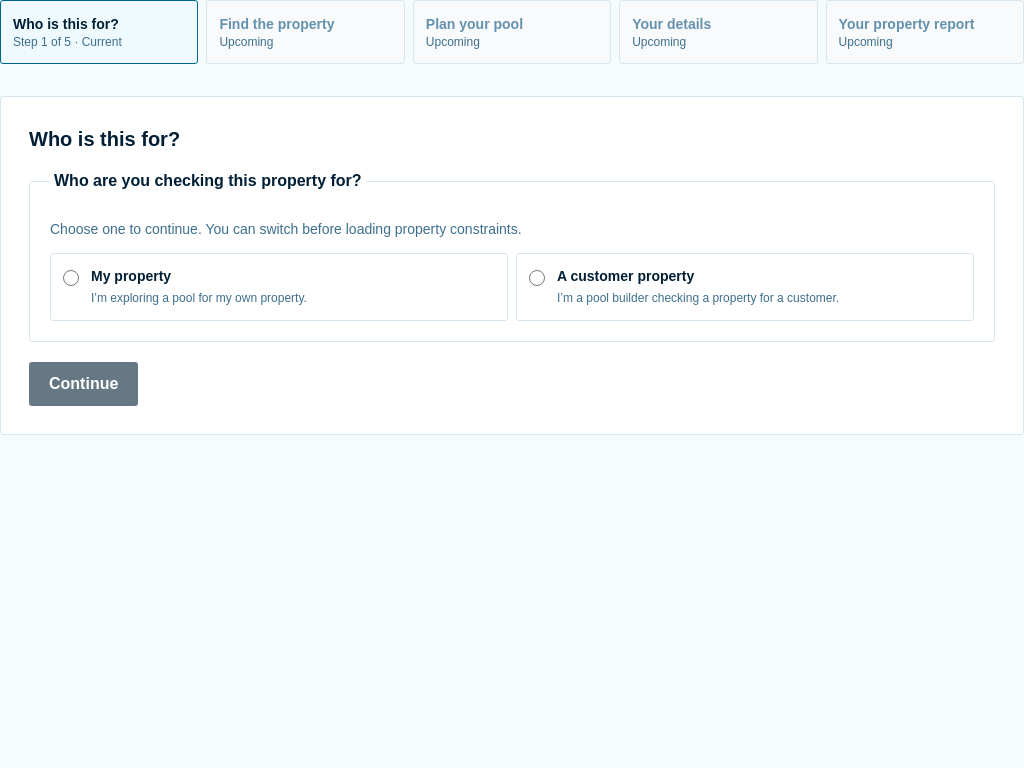
Test: PropertyCheckJourney › announces the confirmed legal parcel before the assessment details
This screenshot has width=1024, height=768.
Click the radio button labelled "My property". click: (71, 278)
box: x1=63 y1=270 x2=79 y2=286
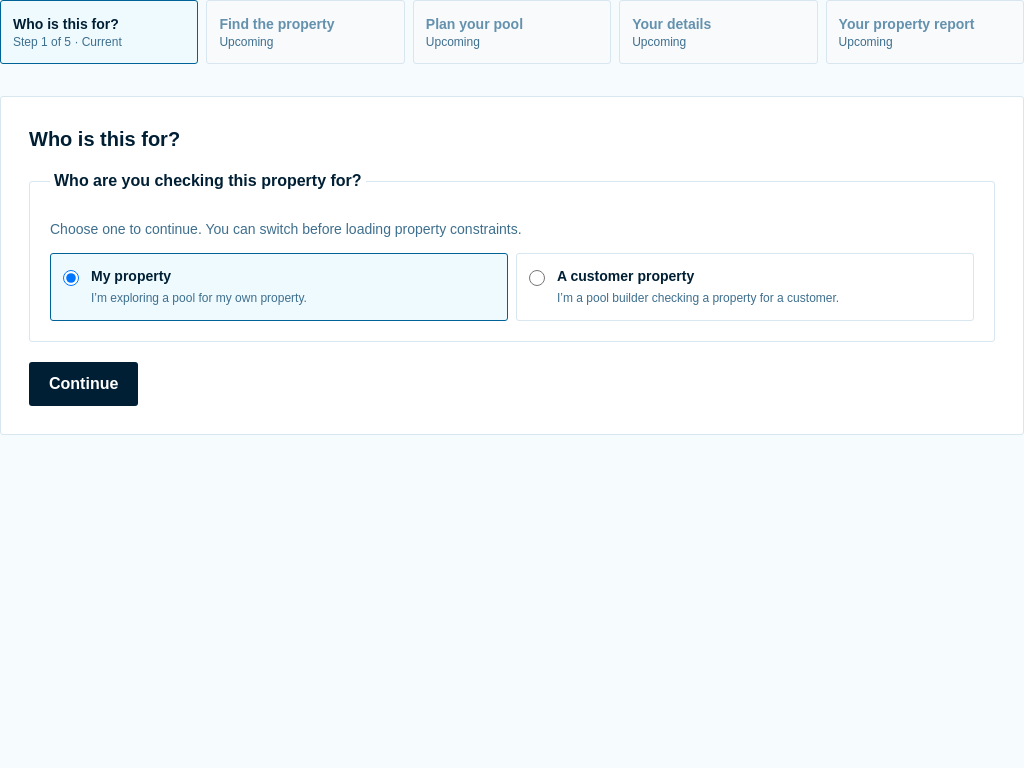
Click the button "Continue". click: (84, 384)
box: x1=29 y1=362 x2=138 y2=406
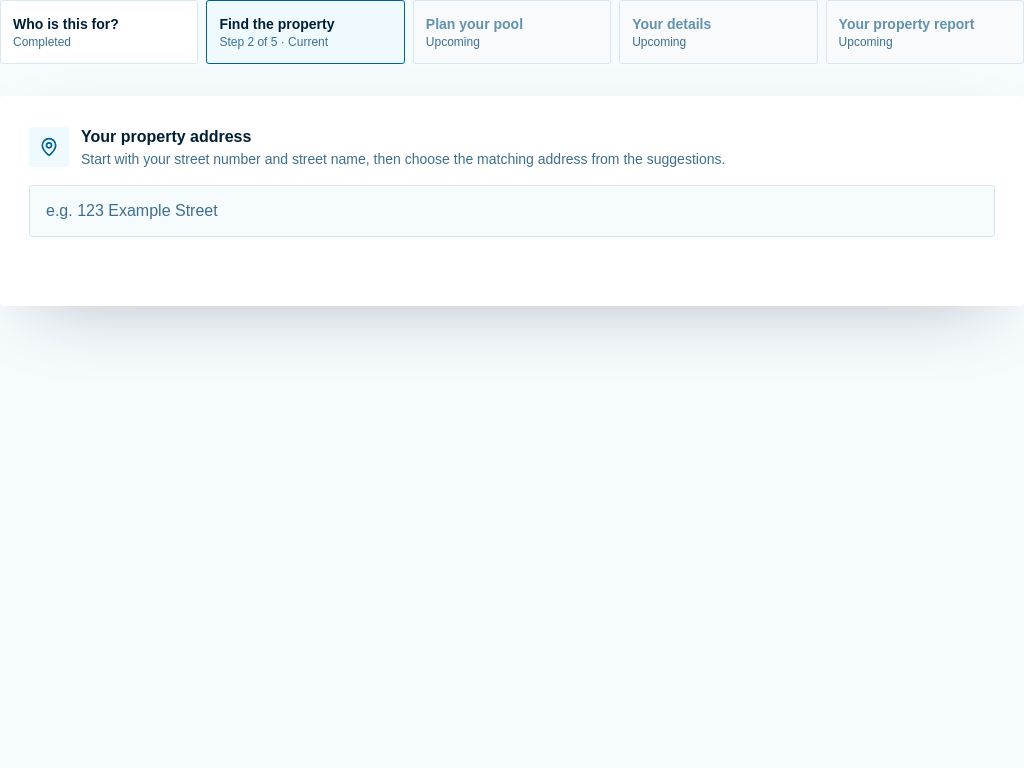
Type "42A Bahari Drive, Ranui, Auckland" into the field named "Auckland property address". click: (512, 211)
box: x1=29 y1=185 x2=995 y2=237
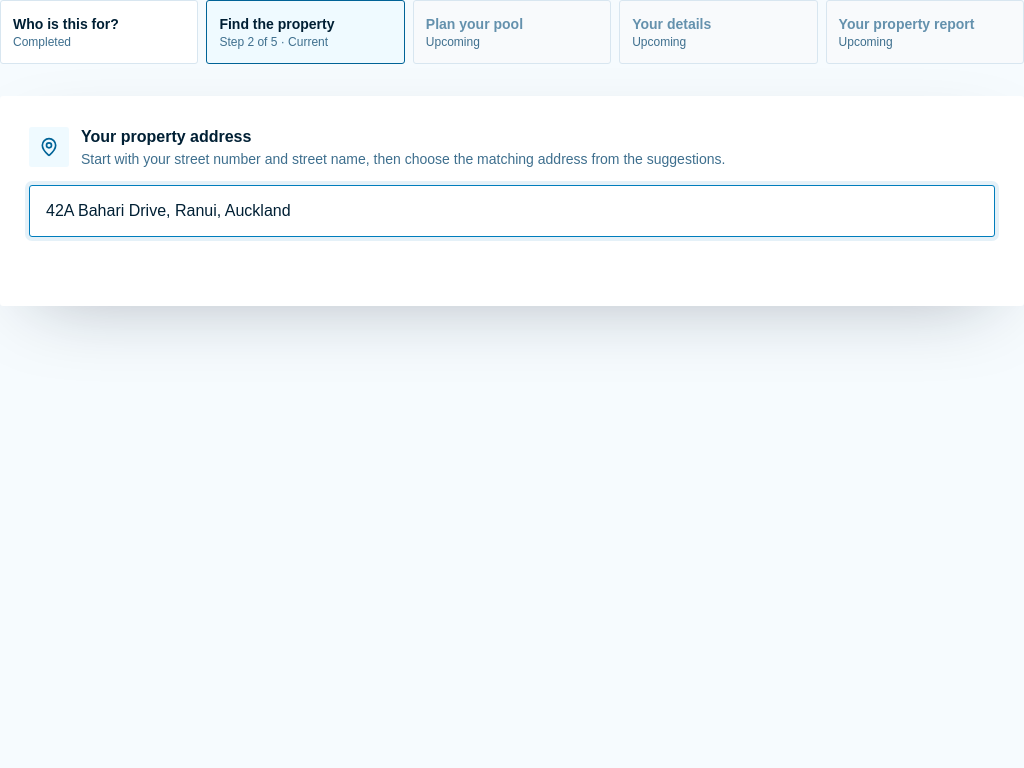
Press Enter
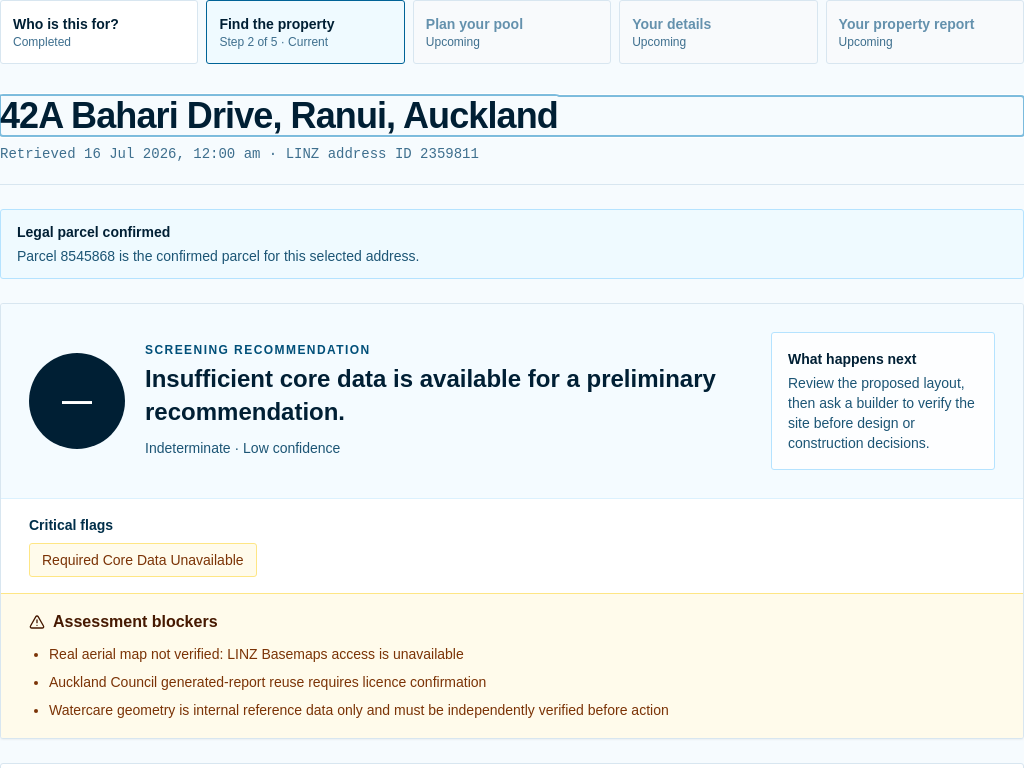
Result: the message shows "Legal parcel confirmed" at x1=17 y1=224 x2=170 y2=240
Result: the message shows "Parcel 8545868" at x1=17 y1=248 x2=419 y2=264
